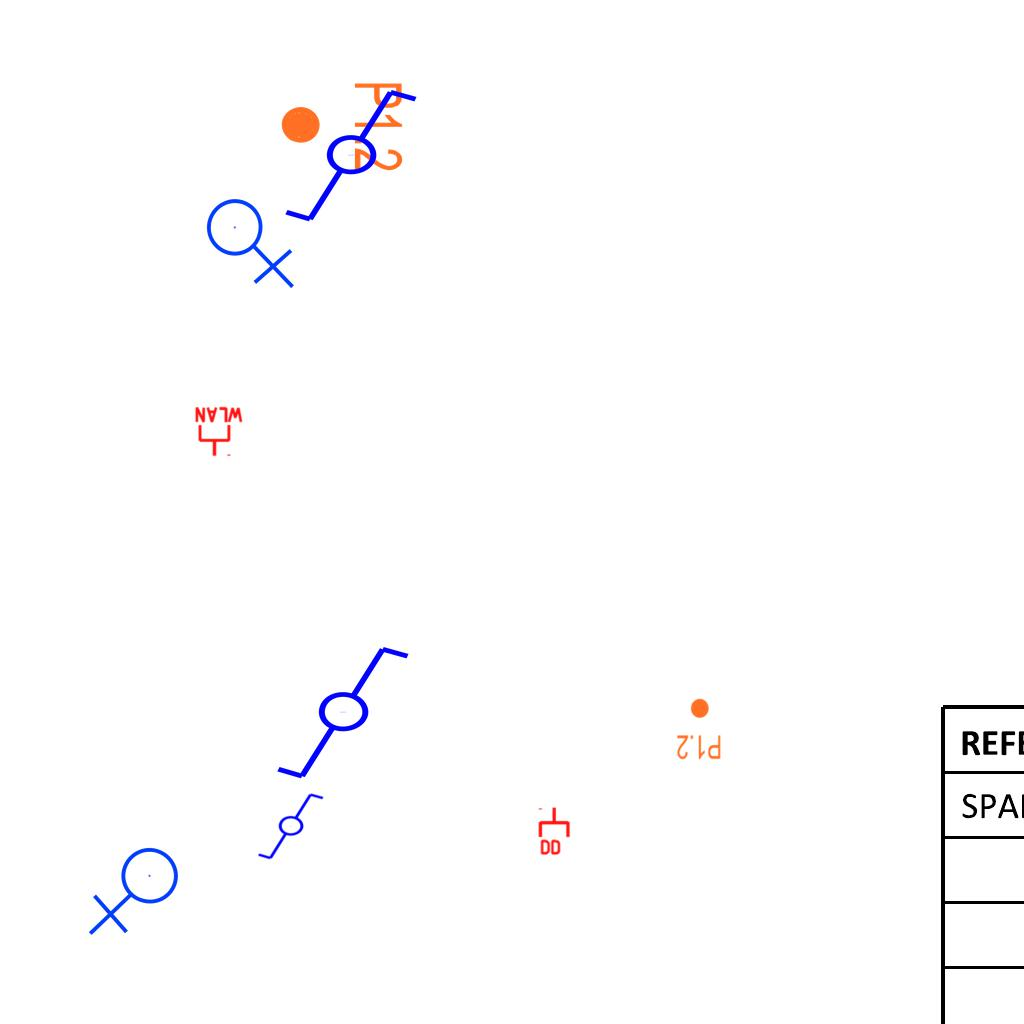Datenanschluss_zweifach: (538, 806, 572, 857)
Downlight_LED_Einbauleuchten_Flur: (278, 80, 406, 173), (676, 697, 722, 761)
Elektroanschluss_allgemein_230V_Geraeteanschlussdose_230V: (205, 190, 299, 289), (88, 846, 187, 940)
WLAN: (193, 406, 245, 458)
Wechselschalter: (273, 642, 430, 786), (281, 85, 438, 229), (256, 791, 334, 863)
